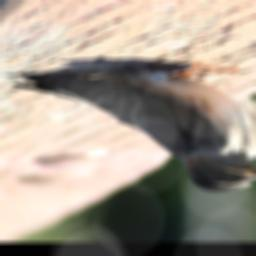Swallow: (9, 61, 256, 193)
